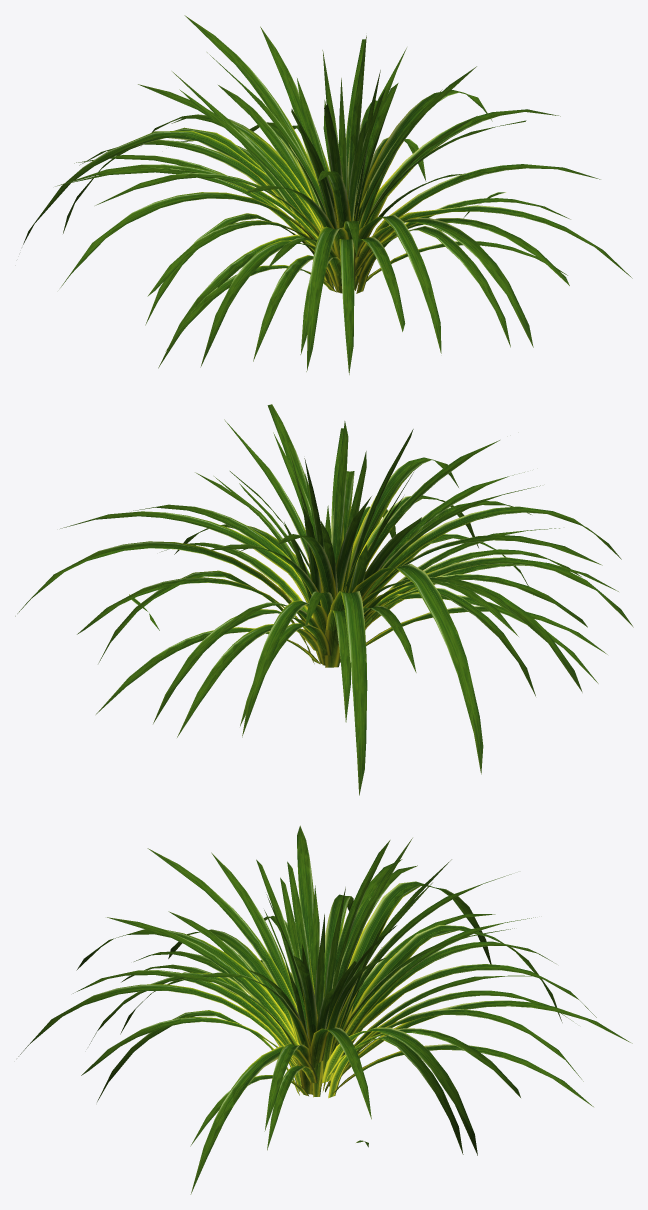
The model's file is DecimatedPlant.fbx.
3 renders of one model, top to bottom at view 1: azimuth 30°, elevation 25°; view 2: azimuth 150°, elevation 25°; view 3: azimuth 270°, elevation 25°, orthographic. The views are drawn at different scales.
Parts seen in each view (by area): view 1: PlantaDecoLOD0; view 2: PlantaDecoLOD0; view 3: PlantaDecoLOD0.
Part boxes in pixels (x1,y1,x2,y2): PlantaDecoLOD0: [23, 15, 632, 374]; PlantaDecoLOD0: [15, 404, 633, 795]; PlantaDecoLOD0: [18, 825, 632, 1194].
Size of what is drawn, in the model's own units: 0.2996 by 0.1329 by 0.3261.
Materials: 1 (1 with a texture image).
